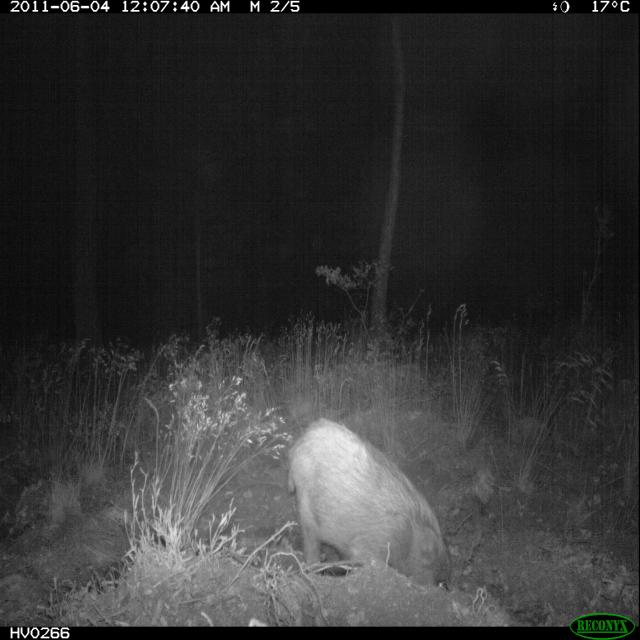boar: (272, 393, 472, 614)
